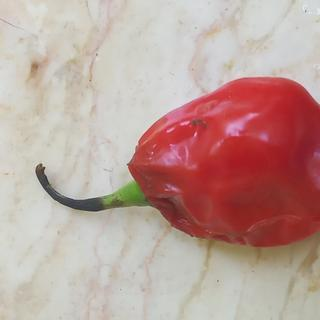Defect: (149, 183, 200, 239), (184, 112, 214, 134)
